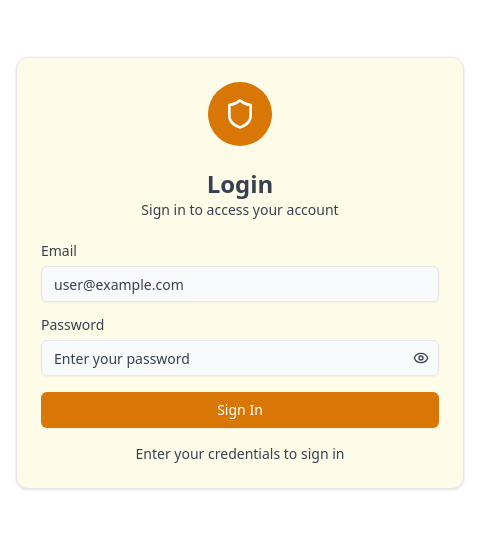
Test: Login Component › displays error message on invalid credentials
The image size is (481, 548).
Type "test@example.com" into the field labelled "Email". click: (240,284)
box: [41, 266, 439, 302]
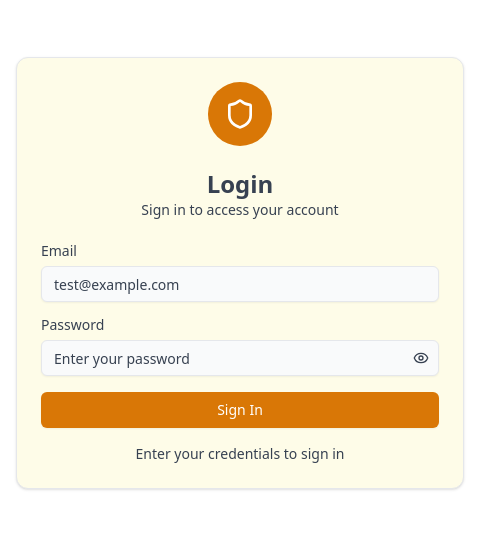
Type "wrongpassword" into the password field labelled "Password". click: (240,358)
box: [41, 340, 439, 376]
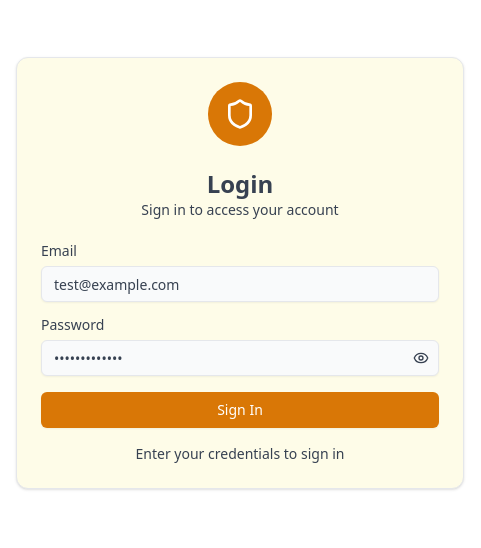
Click the button "Sign In". click: (240,410)
box: [41, 392, 439, 428]
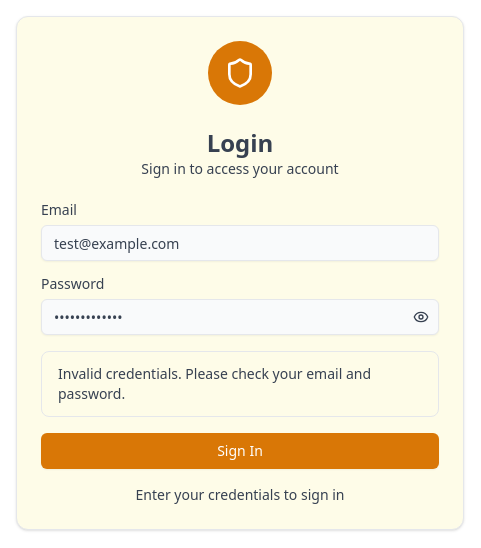
Check: the text "Invalid credentials. Please check your email and password." is shown, box [58, 364, 422, 404]
